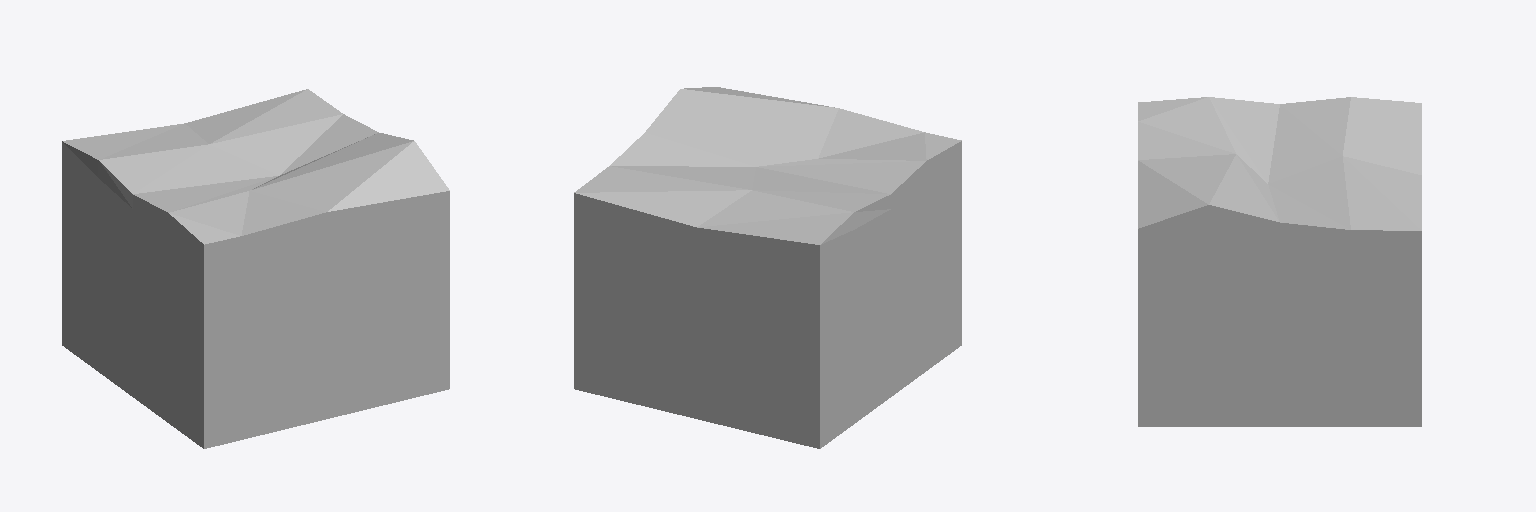
The model's file is grass4.obj.
3 renders of one model, left to right at view 1: azimuth 30°, elevation 25°; view 2: azimuth 150°, elevation 25°; view 3: azimuth 270°, elevation 25°, orthographic.
Parts seen in each view (by area): view 1: Cube; view 2: Cube; view 3: Cube.
Part boxes in pixels (x1,y1,x2,y2): Cube: (62, 89, 449, 448); Cube: (574, 87, 961, 448); Cube: (1138, 97, 1421, 426).
Size of the model in its own units: 159 by 138 by 159.